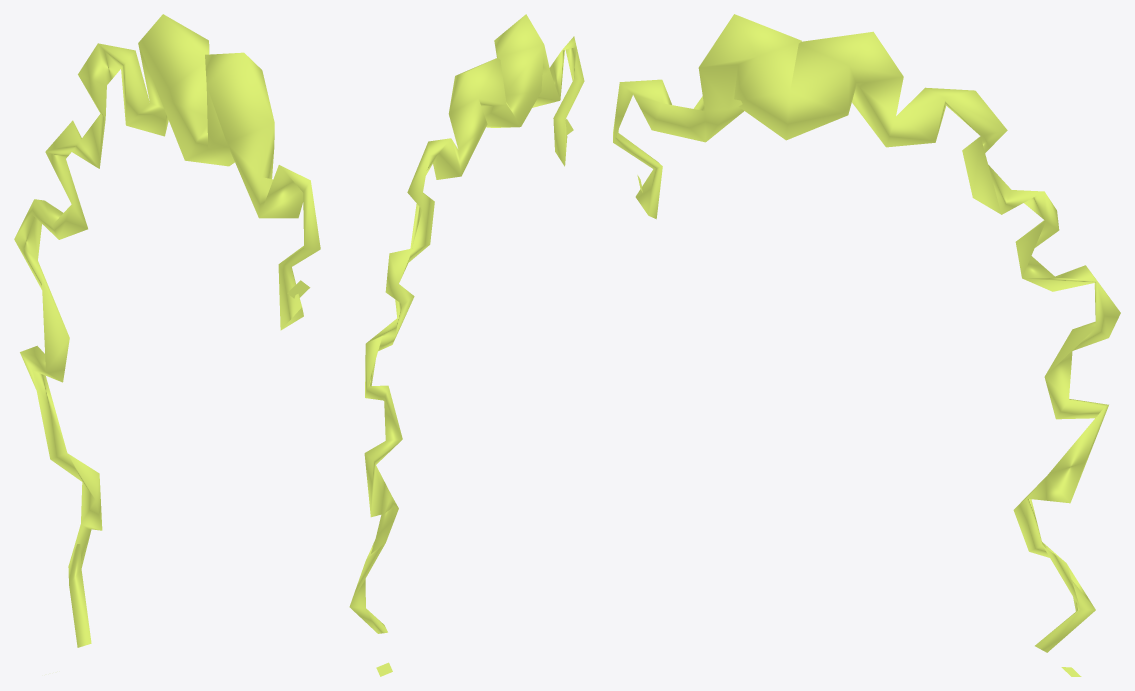
Rendered from caballo-002.gltf.
3 views of the same model, side by side, from view 1: azimuth 30°, elevation 25°; view 2: azimuth 150°, elevation 25°; view 3: azimuth 270°, elevation 25° (orthographic). The views are drawn at different scales.
Visible parts, largest first — view 1: Caballo-f.002; view 2: Caballo-f.002; view 3: Caballo-f.002.
Part boxes in pixels (box(x1,y1,x2,y2)): Caballo-f.002: box(14, 14, 320, 647); Caballo-f.002: box(349, 14, 584, 676); Caballo-f.002: box(613, 14, 1120, 676).
Size of the model in its own units: 0.0481 by 0.5062 by 0.3516.
1 material, 1 textured.
